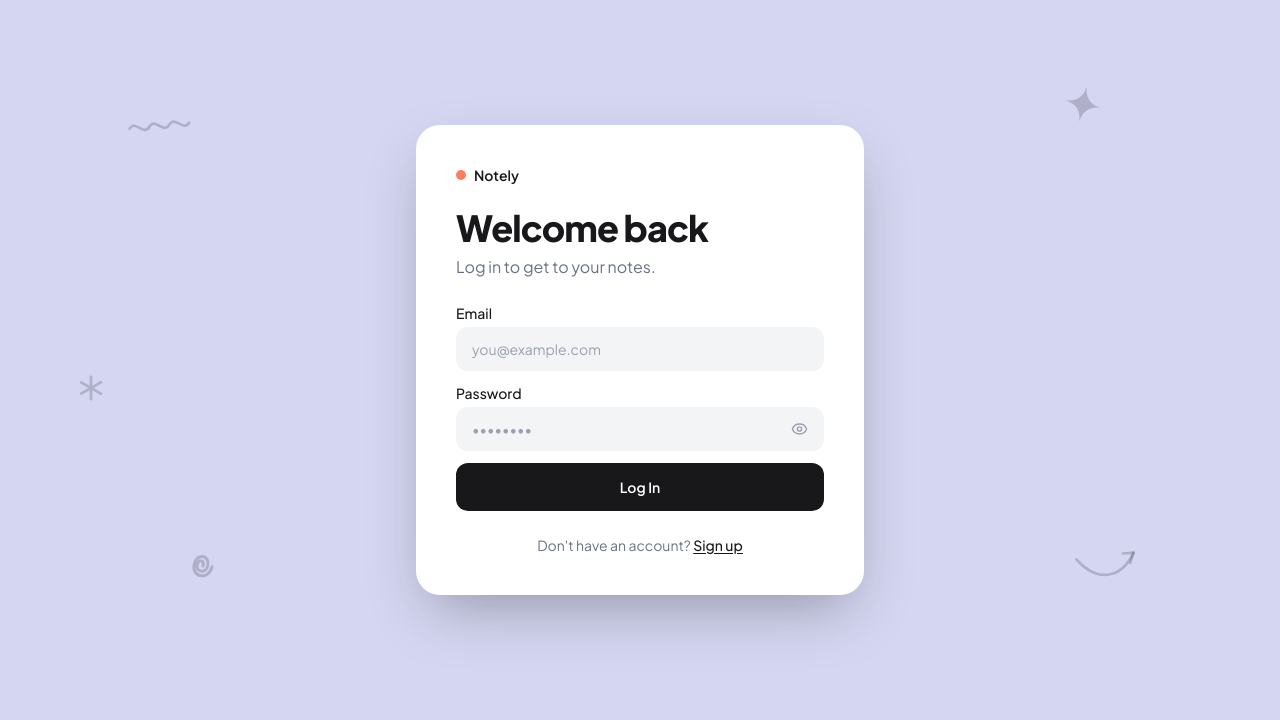
Test: shows the message the backend sent when login fails
In the field labelled "Email": (640, 349) [456, 327, 824, 371], type "a@b.com"
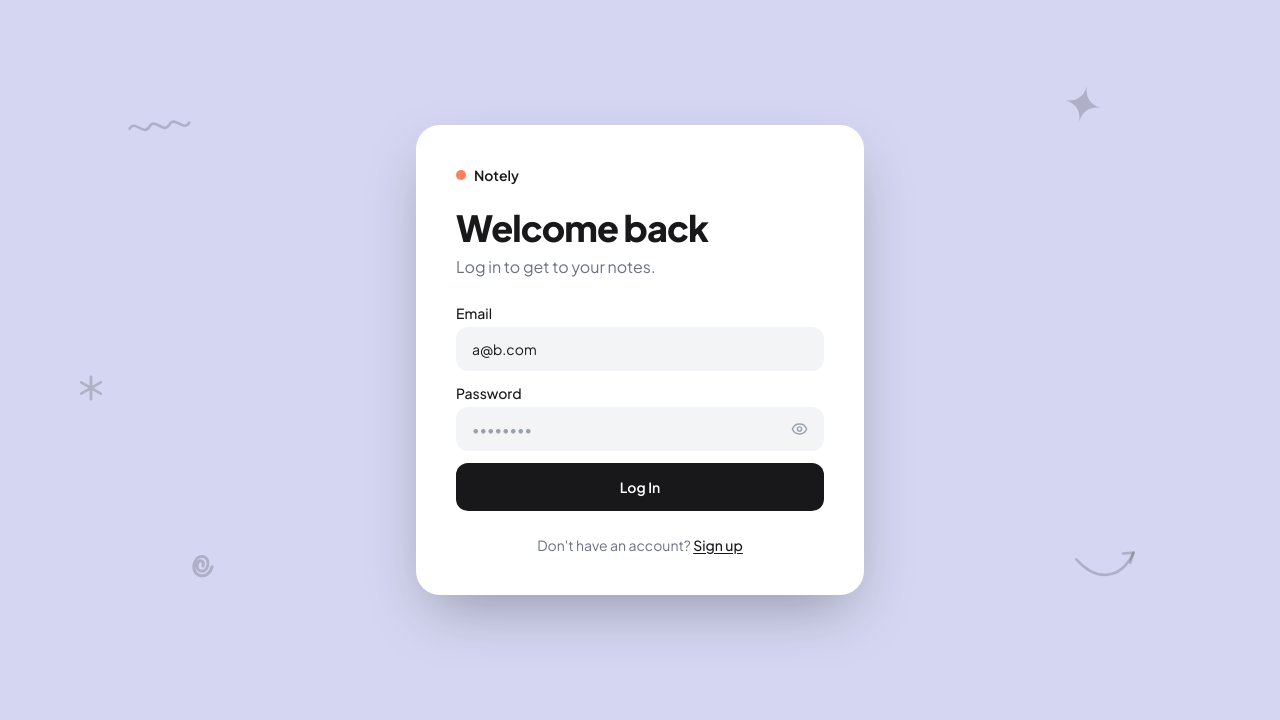
In the password field labelled "Password": (640, 429) [456, 407, 824, 451], type "wrongpass"
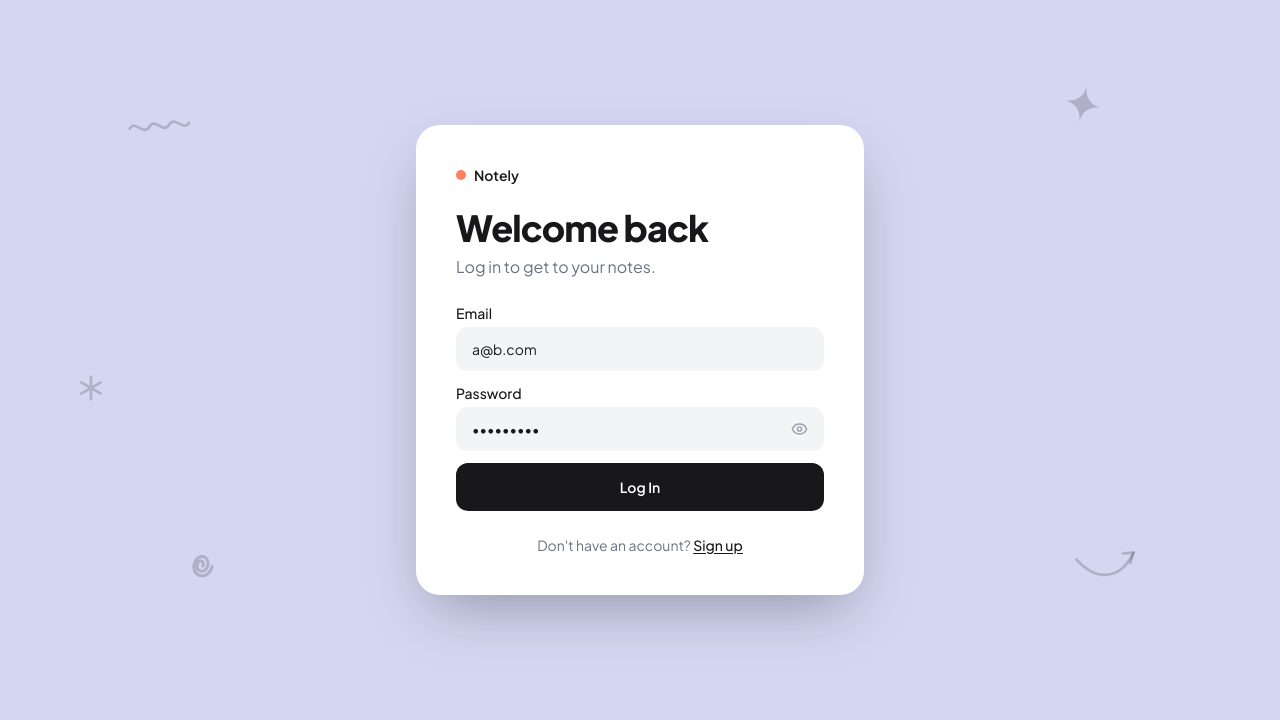
Click the button "Log In": click(640, 487) [456, 463, 824, 511]
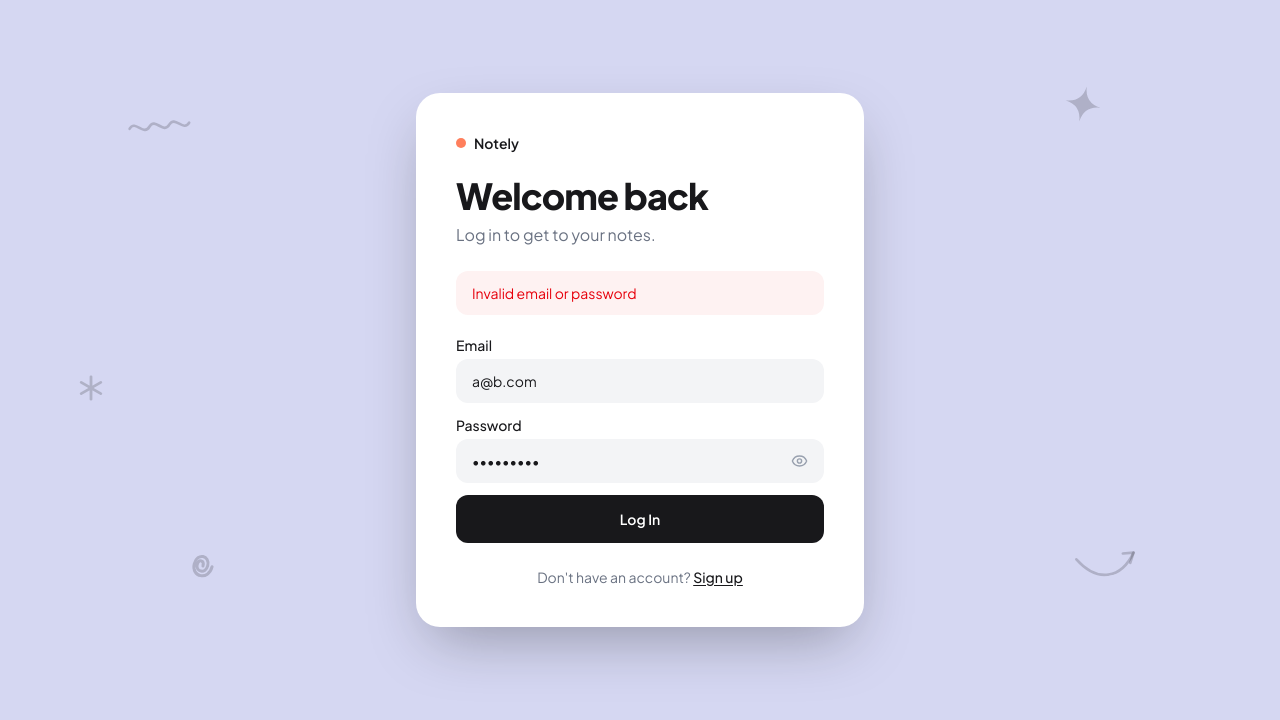
Expected: the message reads "Invalid email or password", [472, 284, 637, 302]
